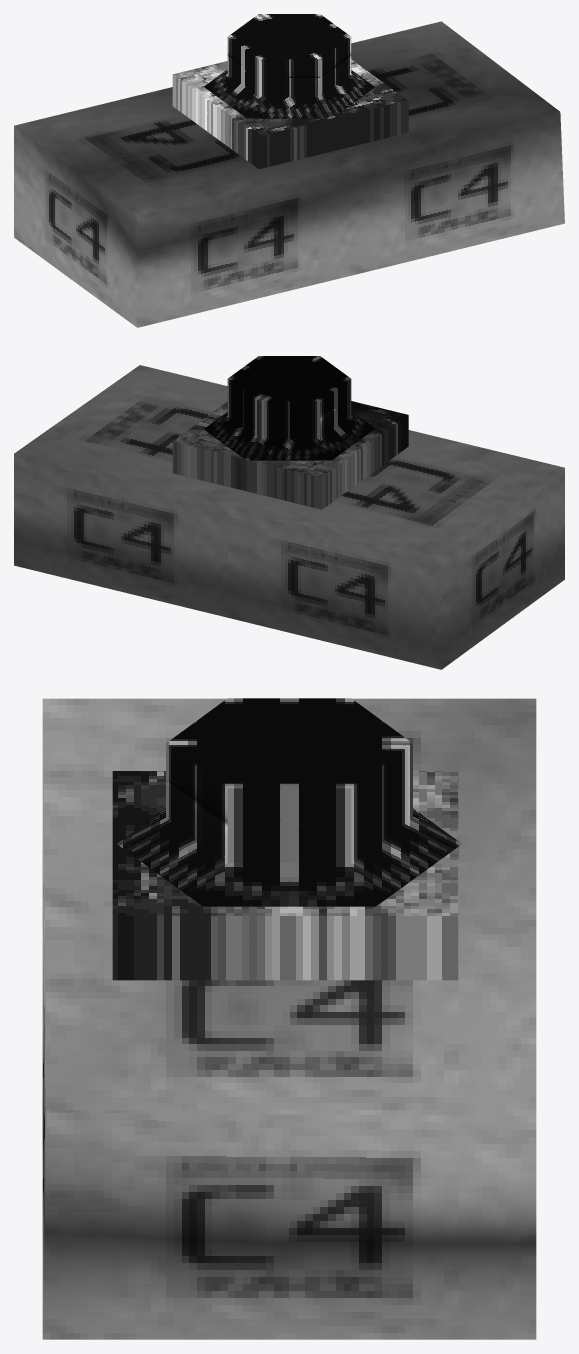
File: PchrplastiqueZ.obj
3 renders of one model, top to bottom at view 1: azimuth 30°, elevation 25°; view 2: azimuth 150°, elevation 25°; view 3: azimuth 270°, elevation 25°, orthographic. The views are drawn at different scales.
Size of the model in its own units: 240 by 104 by 120.
Materials: 3 (3 with a texture image).
